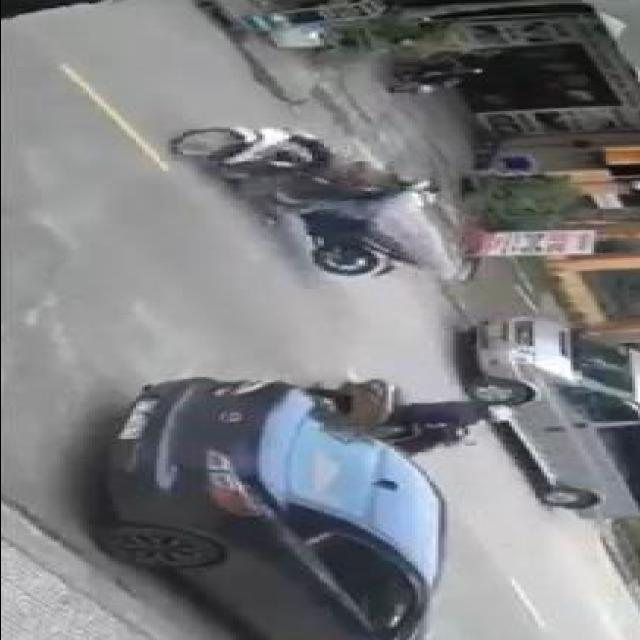accident: (154, 119, 471, 289)
